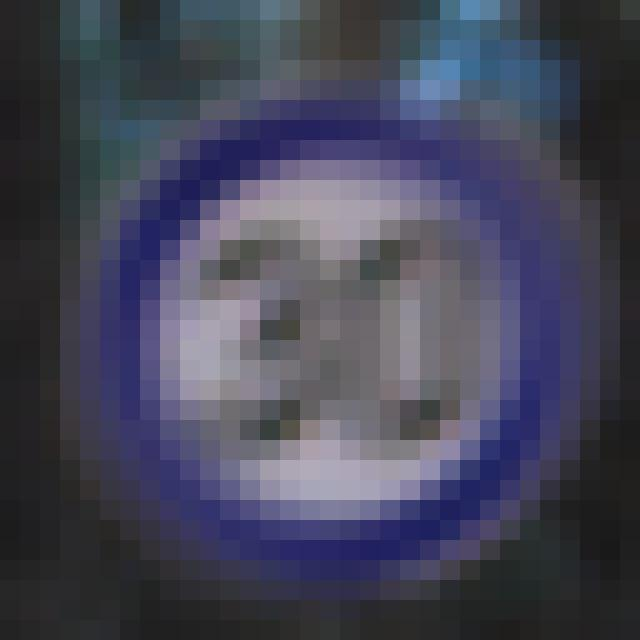SPEED LIMIT 30: (101, 131, 577, 584)
